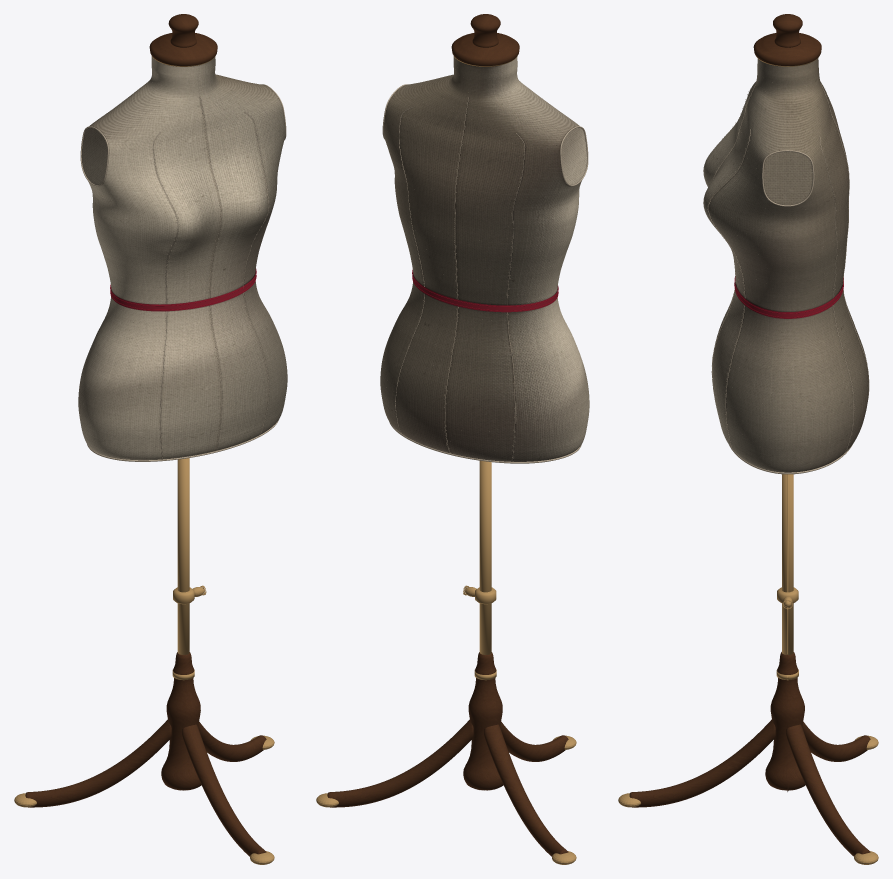
The model's file is cycles-dressform.glb.
3 views of the same model, side by side, from view 1: azimuth 30°, elevation 25°; view 2: azimuth 150°, elevation 25°; view 3: azimuth 270°, elevation 25° (orthographic).
Visible parts, largest first — view 1: Dress form / continuous shaped linen body, Stand / turned walnut column, Stand / swept walnut leg 2, Stand / swept walnut leg 3, Stand / telescopic brass shaft, Neck / walnut cap, Stand / swept walnut leg 1, Waist / burgundy grosgrain tape, Neck / turned walnut finial; view 2: Dress form / continuous shaped linen body, Stand / turned walnut column, Stand / swept walnut leg 1, Stand / swept walnut leg 2, Stand / telescopic brass shaft, Neck / walnut cap, Stand / swept walnut leg 3, Waist / burgundy grosgrain tape, Neck / turned walnut finial; view 3: Dress form / continuous shaped linen body, Stand / turned walnut column, Stand / swept walnut leg 3, Stand / swept walnut leg 1, Stand / telescopic brass shaft, Neck / walnut cap, Stand / swept walnut leg 2, Neck / turned walnut finial, Waist / burgundy grosgrain tape.
Part boxes in pixels (<box>): Dress form / continuous shaped linen body: <box>78,56,287,461</box>; Stand / turned walnut column: <box>161,652,201,790</box>; Stand / swept walnut leg 2: <box>25,719,171,807</box>; Stand / swept walnut leg 3: <box>182,724,266,856</box>; Stand / telescopic brass shaft: <box>177,458,189,654</box>; Neck / walnut cap: <box>149,33,217,66</box>; Stand / swept walnut leg 1: <box>198,721,266,761</box>; Waist / burgundy grosgrain tape: <box>110,269,256,311</box>; Neck / turned walnut finial: <box>168,14,198,47</box>; Dress form / continuous shaped linen body: <box>380,56,589,463</box>; Stand / turned walnut column: <box>463,652,503,790</box>; Stand / swept walnut leg 1: <box>327,719,473,807</box>; Stand / swept walnut leg 2: <box>484,724,568,856</box>; Stand / telescopic brass shaft: <box>479,460,491,654</box>; Neck / walnut cap: <box>451,33,519,66</box>; Stand / swept walnut leg 3: <box>500,721,568,761</box>; Waist / burgundy grosgrain tape: <box>412,269,558,312</box>; Neck / turned walnut finial: <box>470,14,500,47</box>; Dress form / continuous shaped linen body: <box>703,58,868,474</box>; Stand / turned walnut column: <box>765,652,805,791</box>; Stand / swept walnut leg 3: <box>629,719,775,807</box>; Stand / swept walnut leg 1: <box>786,724,870,856</box>; Stand / telescopic brass shaft: <box>782,474,793,654</box>; Neck / walnut cap: <box>753,33,821,65</box>; Stand / swept walnut leg 2: <box>802,721,870,761</box>; Neck / turned walnut finial: <box>773,14,802,47</box>; Waist / burgundy grosgrain tape: <box>734,276,843,318</box>.
Bounding box in the file's own units: 0.55 × 1.62 × 0.4825.
14 materials, 8 textured.
